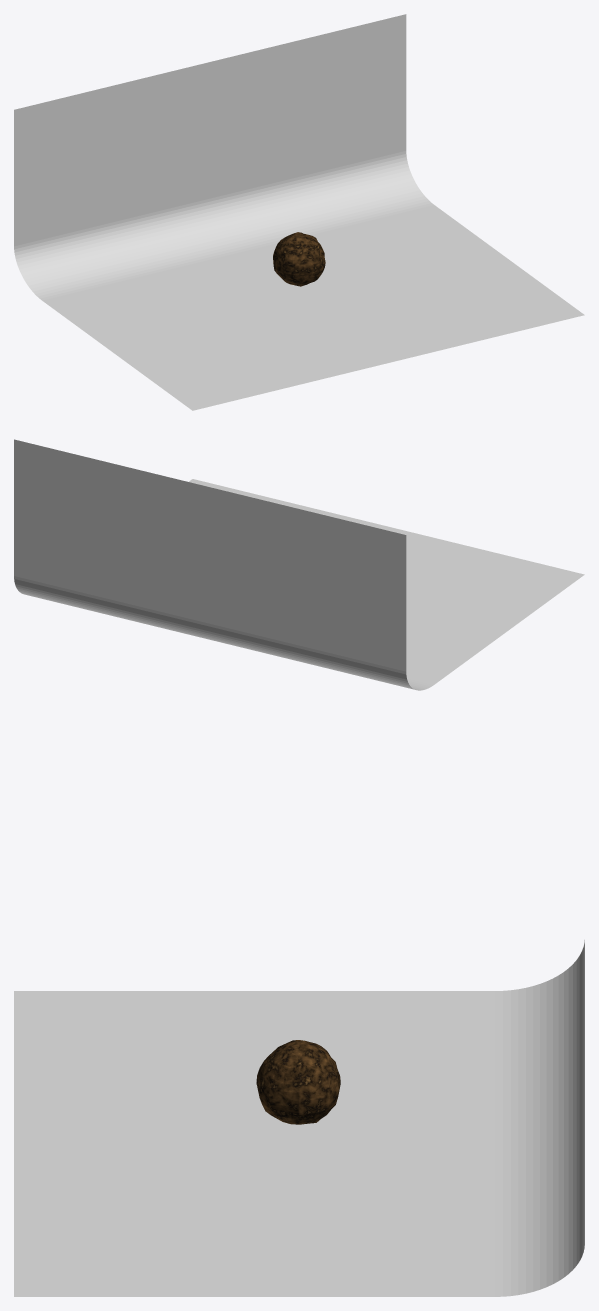
3 views of the same model, one above another, from view 1: azimuth 30°, elevation 25°; view 2: azimuth 150°, elevation 25°; view 3: azimuth 270°, elevation 25° (orthographic). The views are drawn at different scales.
Parts seen in each view (by area): view 1: Plane, Sphere; view 2: Plane; view 3: Plane, Sphere.
Boxes of the visible parts, <box> form: Plane: <box>14,14,584,410</box>; Sphere: <box>273,232,325,286</box>; Plane: <box>14,439,584,690</box>; Plane: <box>14,940,584,1296</box>; Sphere: <box>256,1040,340,1124</box>.
Bounding box in the file's own units: 19.18 × 7.95 × 15.13.
Materials: 2 (1 with a texture image).
